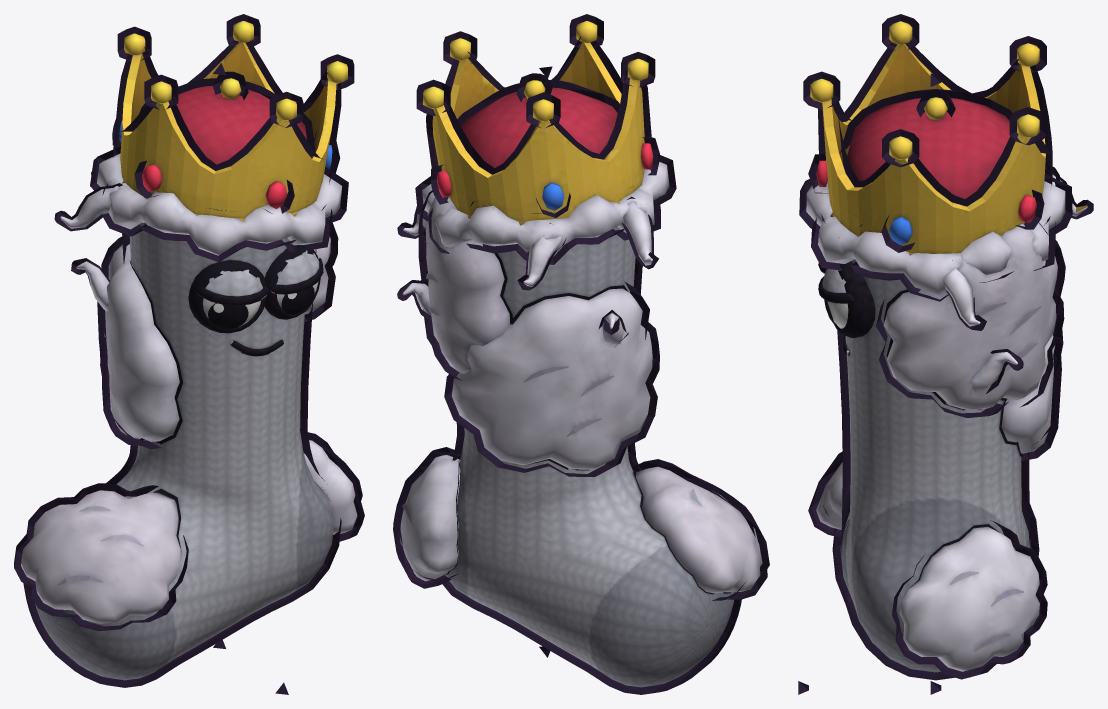
File: Lintlord_L.glb
The picture shows the model from 3 angles, left to right: view 1: azimuth 30°, elevation 25°; view 2: azimuth 150°, elevation 25°; view 3: azimuth 270°, elevation 25°; orthographic projection. The views are drawn at different scales.
Visible parts, largest first — view 1: Lintlord_L, Lintlord_L_Outline; view 2: Lintlord_L, Lintlord_L_Outline; view 3: Lintlord_L, Lintlord_L_Outline.
Boxes of the visible parts, left/top/right/bottom form: Lintlord_L: left=21, top=21, right=357, bottom=680; Lintlord_L_Outline: left=14, top=14, right=364, bottom=687; Lintlord_L: left=400, top=21, right=762, bottom=687; Lintlord_L_Outline: left=393, top=14, right=769, bottom=694; Lintlord_L: left=806, top=21, right=1087, bottom=672; Lintlord_L_Outline: left=799, top=14, right=1093, bottom=680.
Size of the model in its own units: 3.11 by 5.35 by 2.23.
Materials: 2 (2 with a texture image).
